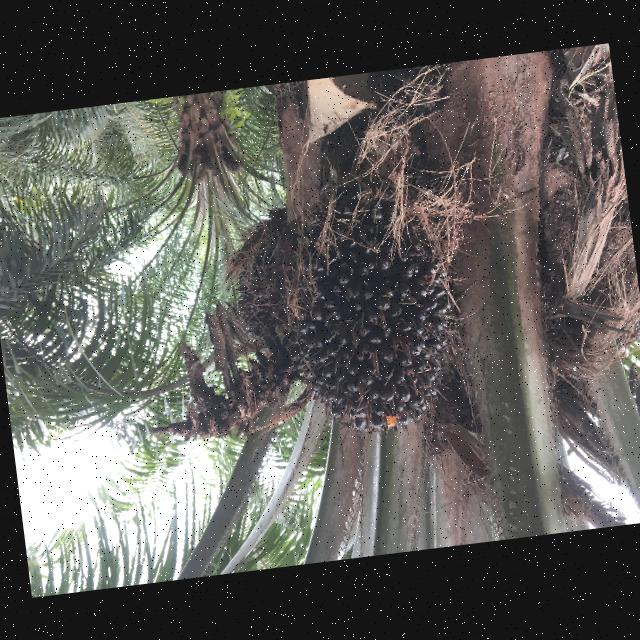Unripe: (295, 208, 447, 432)
